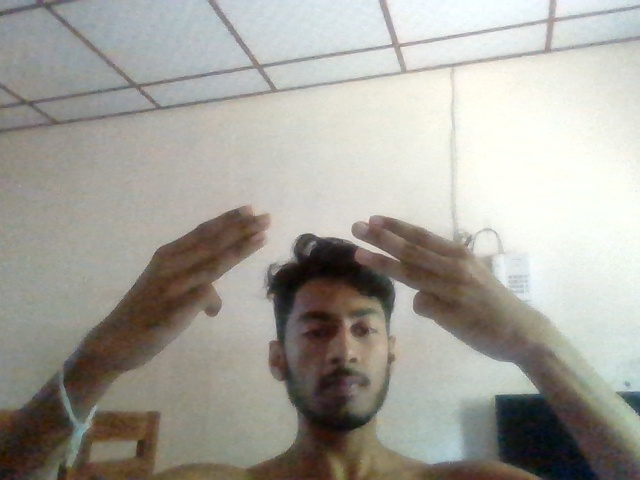ThankYou: (82, 201, 553, 372)
